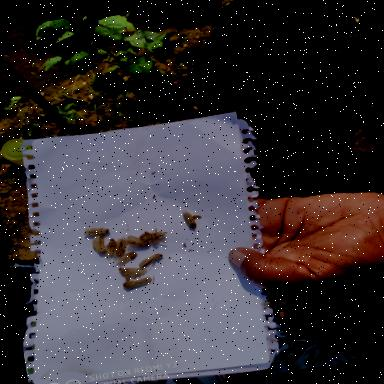abw: (119, 272, 157, 292), (116, 262, 151, 283), (135, 250, 166, 269), (110, 249, 140, 268), (80, 222, 112, 239), (124, 231, 150, 250), (88, 232, 109, 255), (179, 208, 198, 232), (112, 233, 130, 257), (102, 236, 120, 258)
